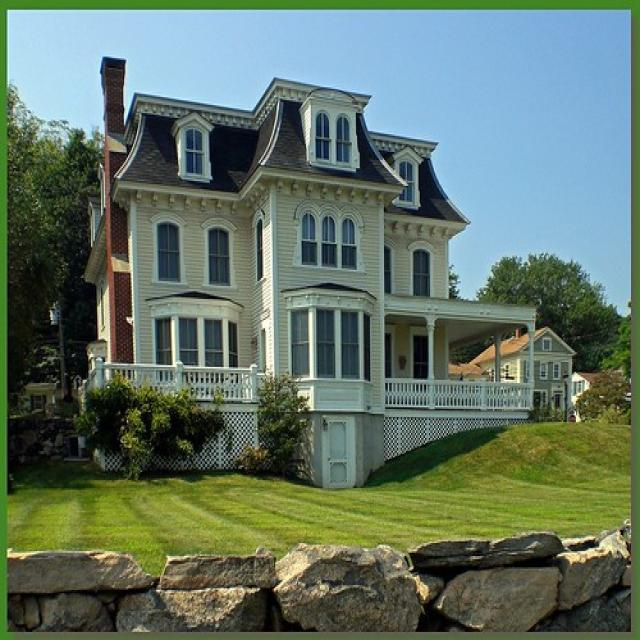building: (58, 56, 538, 495)
